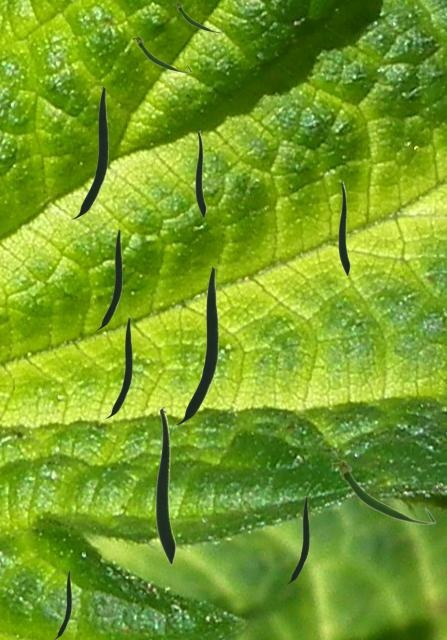french_bean: (330, 459, 435, 524), (174, 266, 217, 424), (71, 86, 107, 218), (155, 406, 175, 564), (106, 317, 131, 417), (96, 229, 121, 329), (131, 35, 191, 72), (286, 496, 308, 583), (172, 1, 223, 32), (54, 570, 70, 638), (338, 181, 349, 275), (195, 130, 205, 217)
